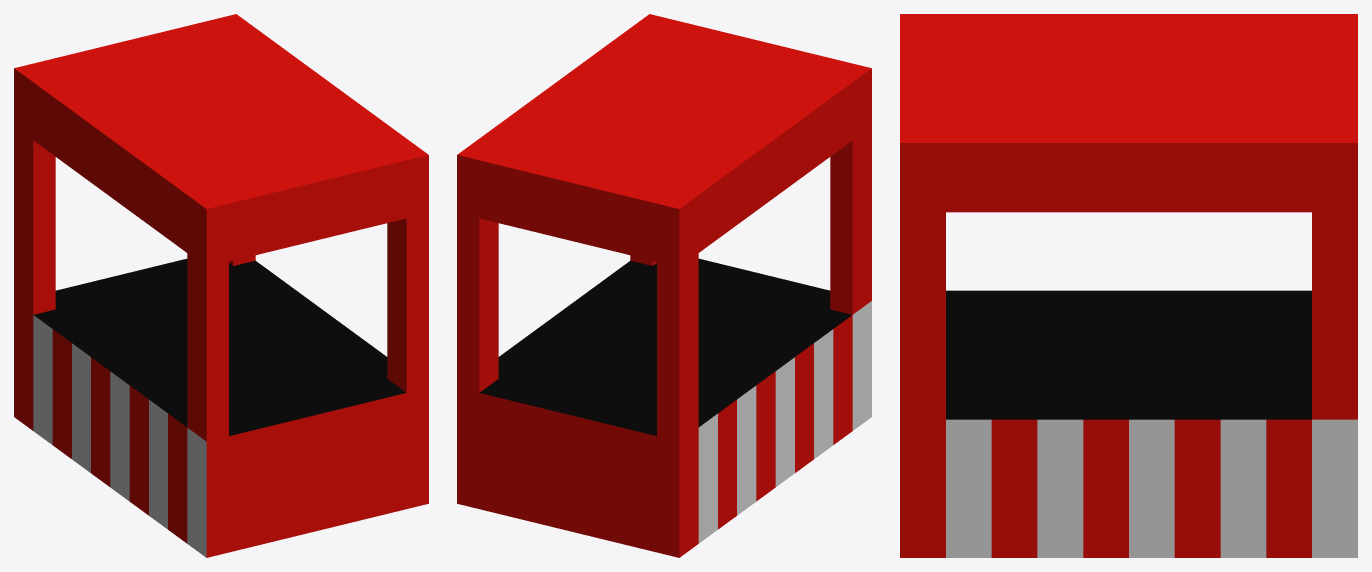
The model's file is Pochoclos.fbx.
3 renders of one model, left to right at view 1: azimuth 30°, elevation 25°; view 2: azimuth 150°, elevation 25°; view 3: azimuth 270°, elevation 25°, orthographic. The views are drawn at different scales.
Parts seen in each view (by area): view 1: Plane; view 2: Plane; view 3: Plane.
Part boxes in pixels (x1,y1,x2,y2): Plane: [14, 14, 428, 557]; Plane: [457, 14, 871, 557]; Plane: [900, 14, 1357, 557].
Bounding box in the file's own units: 200 × 300 × 300.
